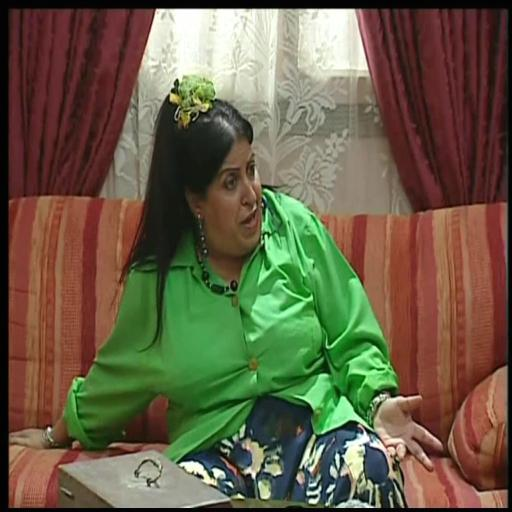jannet: (186, 137, 261, 255)
